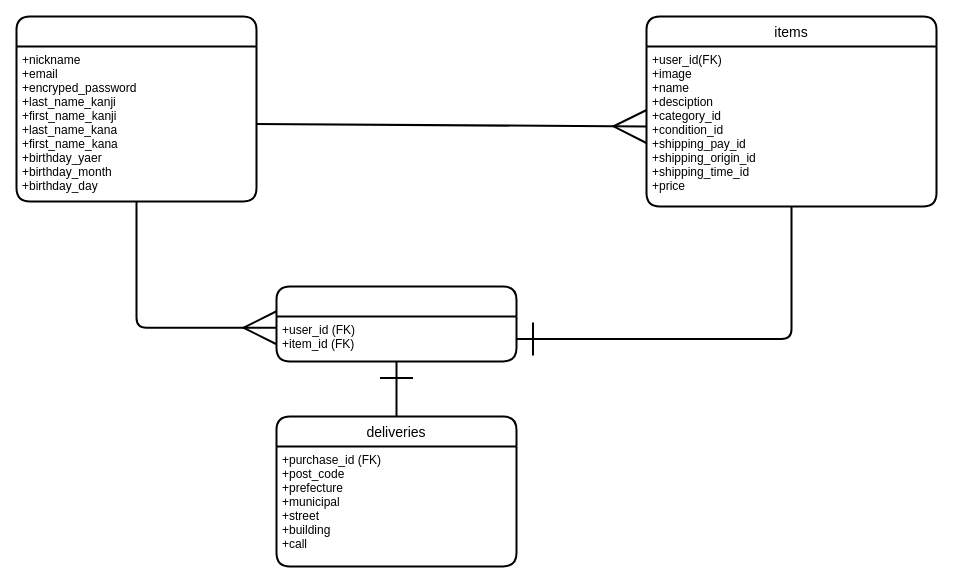
Some shapes in this 953 by 583 pixel diagram are drawn without their labels. Here are the shapes that lost their labels. From the top down, the box of each, then its label:
(15, 15, 257, 202): users
(275, 285, 517, 362): purchases
